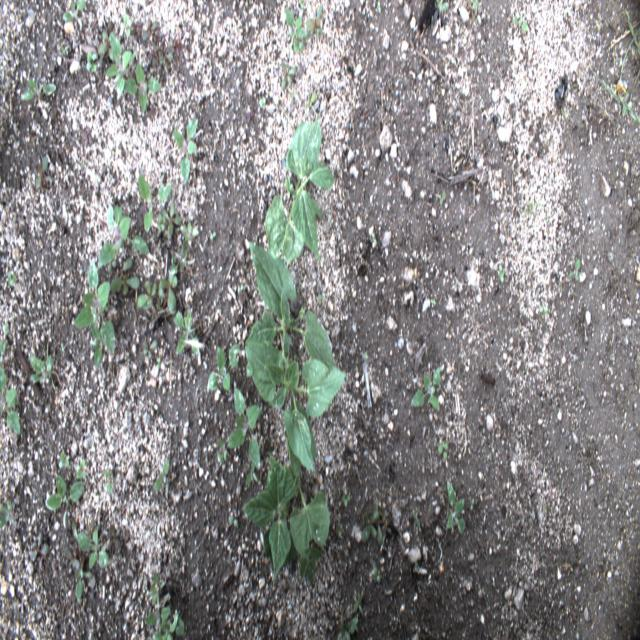crop: (243, 335, 349, 475), (242, 448, 332, 584), (245, 237, 338, 367), (264, 112, 338, 270)
weed: (72, 254, 120, 377), (592, 25, 639, 128), (95, 200, 153, 274), (221, 384, 264, 478), (159, 238, 192, 318), (1, 335, 24, 443), (101, 29, 135, 100), (124, 60, 163, 118), (203, 339, 242, 396), (169, 114, 199, 188), (73, 522, 113, 572), (407, 363, 444, 417), (137, 170, 165, 232), (358, 501, 394, 549), (46, 472, 87, 514), (171, 304, 201, 360), (442, 474, 468, 538), (16, 72, 59, 106), (109, 256, 141, 300), (145, 604, 186, 638), (282, 1, 306, 56), (26, 346, 55, 390), (160, 199, 183, 245), (73, 558, 95, 604), (136, 272, 159, 312), (59, 0, 86, 33), (147, 567, 168, 608), (334, 607, 360, 639), (26, 529, 50, 563), (306, 2, 326, 42), (277, 53, 298, 90), (563, 254, 582, 291), (153, 456, 170, 496), (34, 152, 49, 193), (511, 10, 532, 39), (179, 220, 200, 246), (106, 523, 123, 552), (142, 15, 161, 40), (85, 47, 100, 73), (436, 438, 449, 462)
